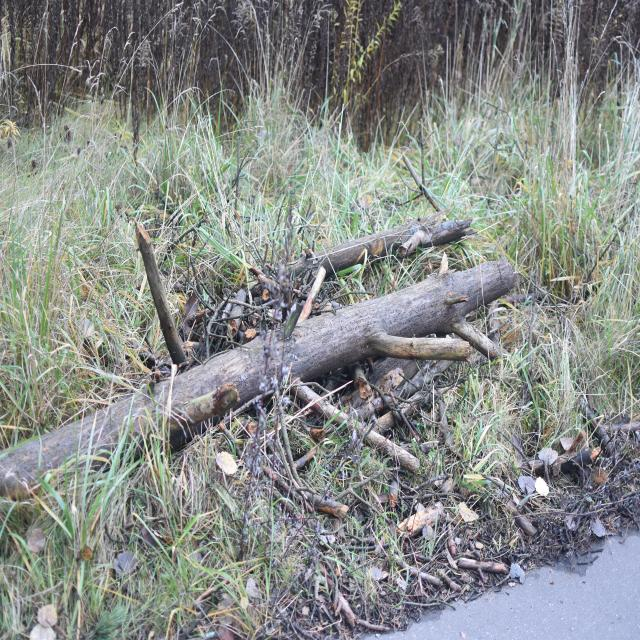lixo domiciliar: (29, 622, 56, 640)
restos de madeira: (287, 250, 517, 380), (0, 368, 159, 515), (162, 342, 282, 448), (297, 382, 422, 471), (245, 430, 352, 522), (134, 220, 186, 366), (364, 204, 484, 266), (303, 218, 428, 277), (445, 393, 507, 491), (256, 570, 335, 638), (132, 193, 204, 262), (579, 402, 640, 458), (554, 493, 640, 528), (496, 495, 541, 544), (401, 150, 436, 212), (292, 266, 327, 326), (557, 446, 602, 486), (231, 311, 274, 346), (1, 469, 43, 504), (401, 504, 444, 538), (205, 295, 232, 348), (248, 266, 284, 297), (213, 295, 270, 314), (456, 557, 504, 575), (346, 614, 387, 634), (399, 566, 435, 586), (386, 475, 405, 510), (440, 572, 461, 592)
